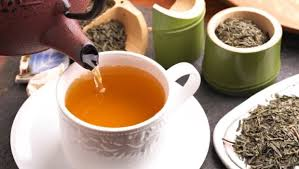cup: (53, 50, 204, 162)
